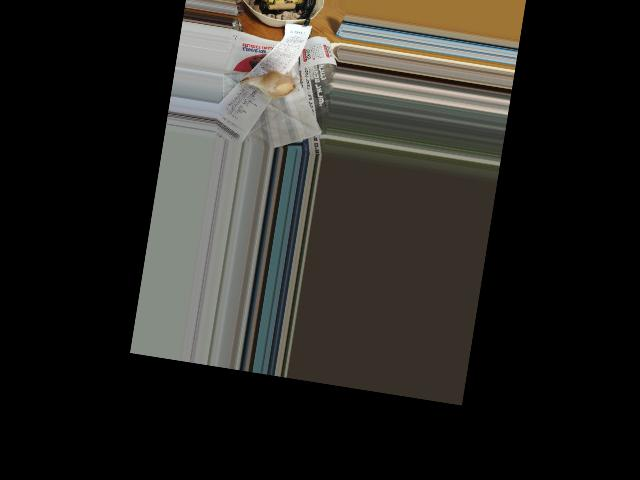onion: (257, 71, 296, 97)
